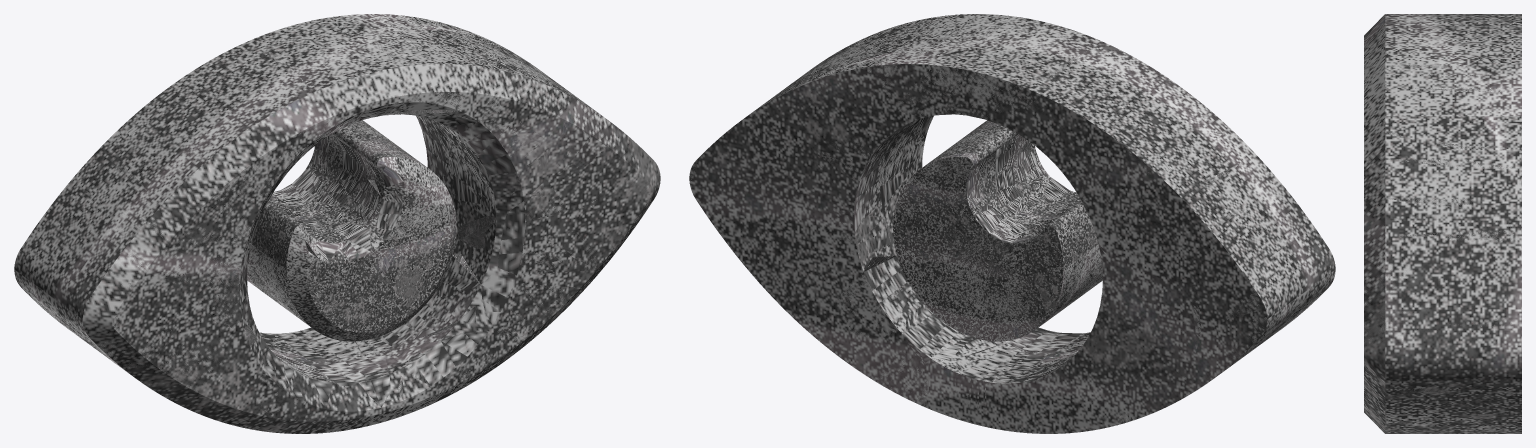
File: The Oracle's Eye.glb
3 views of the same model, side by side, from view 1: azimuth 30°, elevation 25°; view 2: azimuth 150°, elevation 25°; view 3: azimuth 270°, elevation 25° (orthographic).
Visible parts, largest first — view 1: Mesh_0.003, Mesh_0.003_cell.022, Mesh_0.003_cell.004, Mesh_0.003_cell.019, Mesh_0.003_cell.066, Mesh_0.003_cell.068, Mesh_0.003_cell.006, Mesh_0.003_cell.084, Mesh_0.003_cell.060, Mesh_0.003_cell.069, Mesh_0.003_cell.077, Mesh_0.003_cell.024 (+24 smaller); view 2: Mesh_0.003, Mesh_0.003_cell.078, Mesh_0.003_cell.036, Mesh_0.003_cell.072, Mesh_0.003_cell.087, Mesh_0.003_cell.050, Mesh_0.003_cell.081, Mesh_0.003_cell.082, Mesh_0.003_cell.009, Mesh_0.003_cell.096, Mesh_0.003_cell.041, Mesh_0.003_cell.066 (+14 smaller); view 3: Mesh_0.003, Mesh_0.003_cell.009, Mesh_0.003_cell.084, Mesh_0.003_cell.026, Mesh_0.003_cell.089, Mesh_0.003_cell.081, Mesh_0.003_cell.022, Mesh_0.003_cell.078.
Boxes of the visible parts, x1,y1,x2,y2 form: Mesh_0.003: (14,14,660,433); Mesh_0.003_cell.022: (439,253,589,357); Mesh_0.003_cell.004: (498,179,596,275); Mesh_0.003_cell.019: (456,98,551,195); Mesh_0.003_cell.066: (71,198,187,288); Mesh_0.003_cell.068: (397,332,496,394); Mesh_0.003_cell.006: (86,263,190,367); Mesh_0.003_cell.084: (599,119,653,253); Mesh_0.003_cell.060: (119,332,247,406); Mesh_0.003_cell.069: (194,246,251,327); Mesh_0.003_cell.077: (312,356,390,420); Mesh_0.003_cell.024: (329,222,389,305); Mesh_0.003: (689,14,1335,433); Mesh_0.003_cell.078: (893,52,1047,132); Mesh_0.003_cell.036: (939,204,1029,287); Mesh_0.003_cell.072: (834,255,910,339); Mesh_0.003_cell.087: (1081,278,1195,412); Mesh_0.003_cell.050: (1193,206,1303,324); Mesh_0.003_cell.081: (712,170,813,292); Mesh_0.003_cell.082: (794,82,885,232); Mesh_0.003_cell.009: (690,76,811,210); Mesh_0.003_cell.096: (902,292,1000,367); Mesh_0.003_cell.041: (942,348,1060,427); Mesh_0.003_cell.066: (1240,165,1317,260); Mesh_0.003: (1364,14,1521,433); Mesh_0.003_cell.009: (1443,189,1521,328); Mesh_0.003_cell.084: (1364,254,1449,402); Mesh_0.003_cell.026: (1386,132,1480,236); Mesh_0.003_cell.089: (1386,63,1520,168); Mesh_0.003_cell.081: (1433,392,1521,418); Mesh_0.003_cell.022: (1364,400,1460,433); Mesh_0.003_cell.078: (1458,23,1521,78).
Size of the model in its own units: 0.2733 by 0.1594 by 0.0647.
2 materials, 2 textured.
